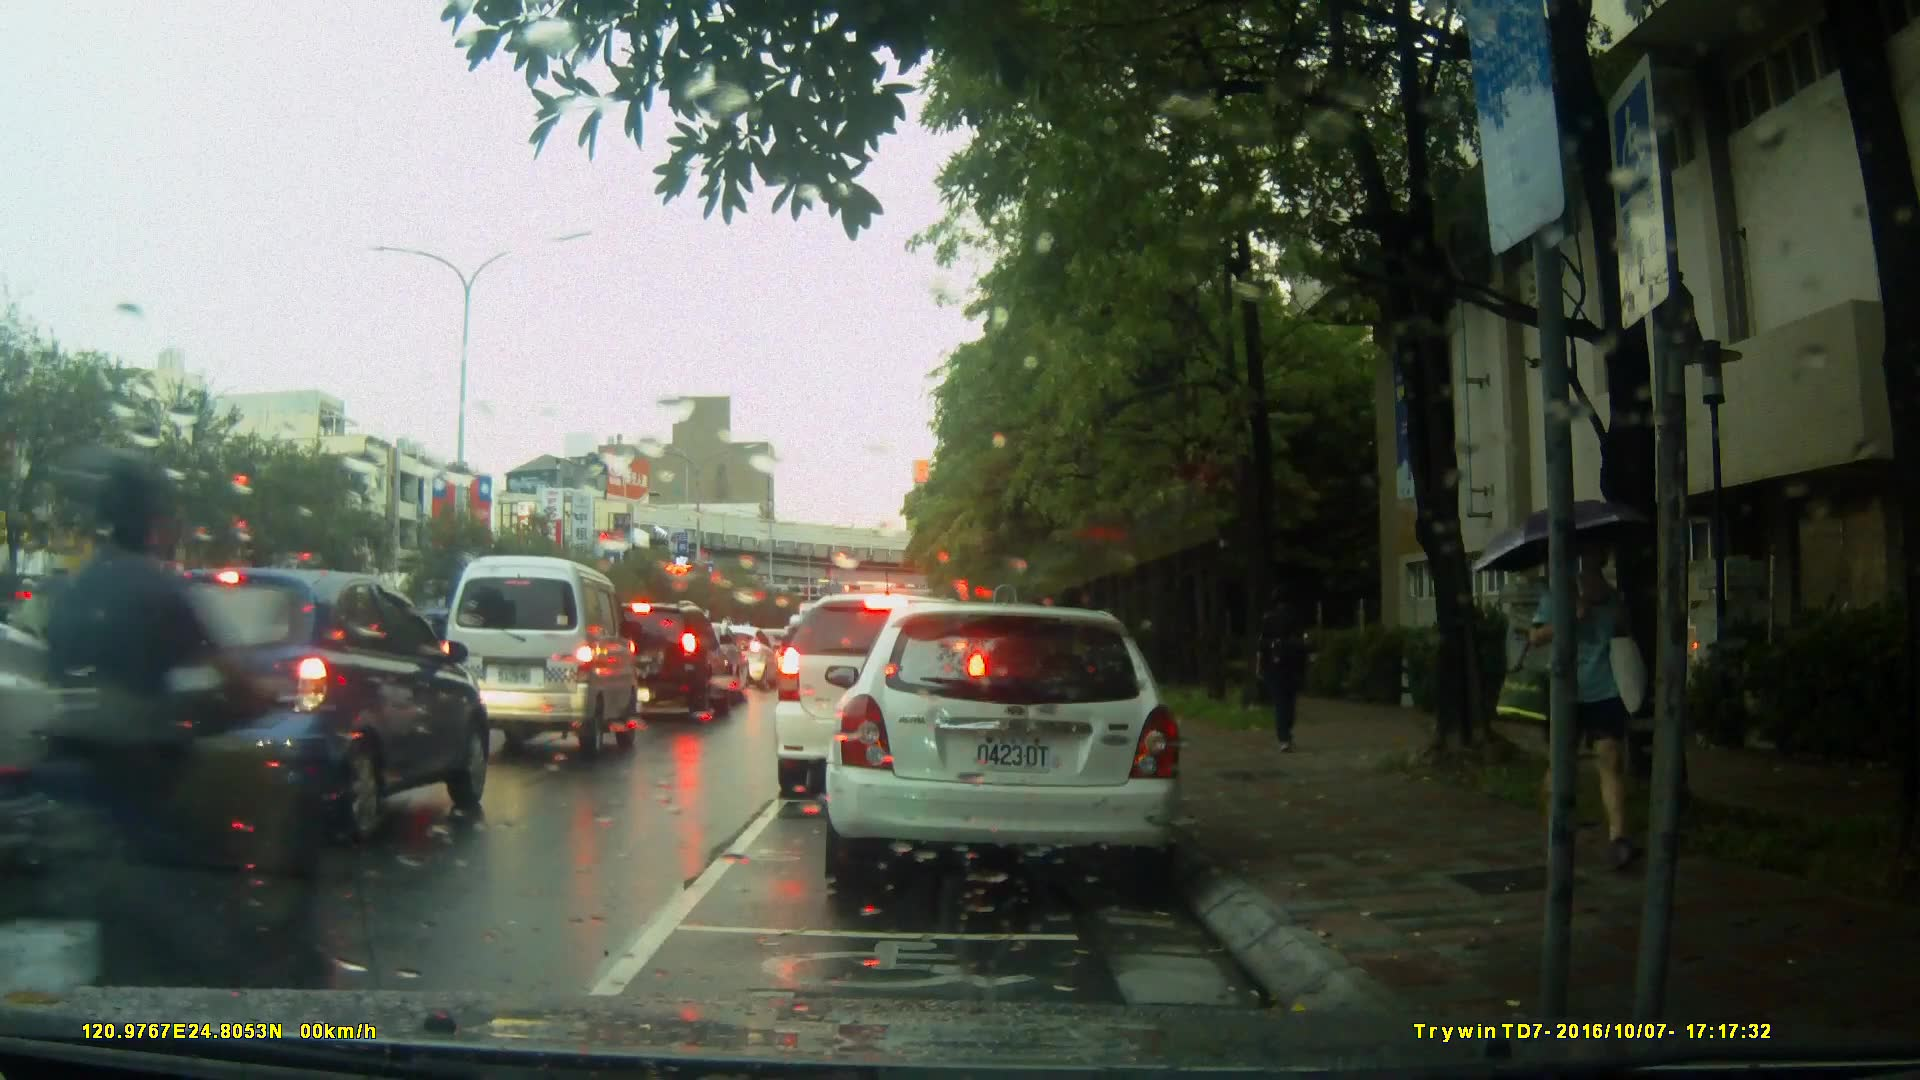pedestrian: (1537, 507, 1667, 887), (1246, 576, 1323, 760)
rider: (5, 440, 343, 1054)
vehicle: (815, 593, 1204, 909), (102, 565, 501, 848), (770, 590, 993, 802), (436, 553, 643, 763), (585, 603, 736, 724)
